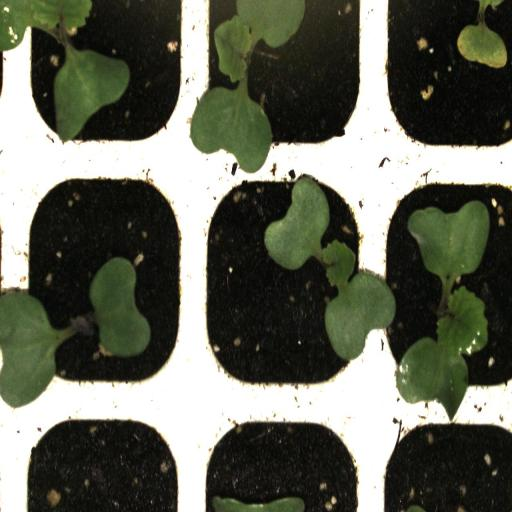seedling: (11, 164, 196, 406), (194, 168, 372, 403), (371, 170, 512, 408), (7, 0, 193, 165), (194, 2, 366, 169)
